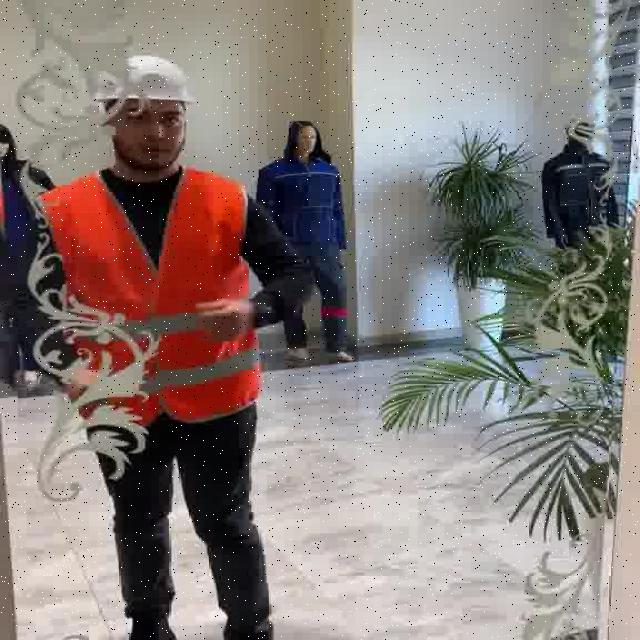Hard_hat: (93, 52, 202, 107)
Vest: (67, 165, 256, 416)
